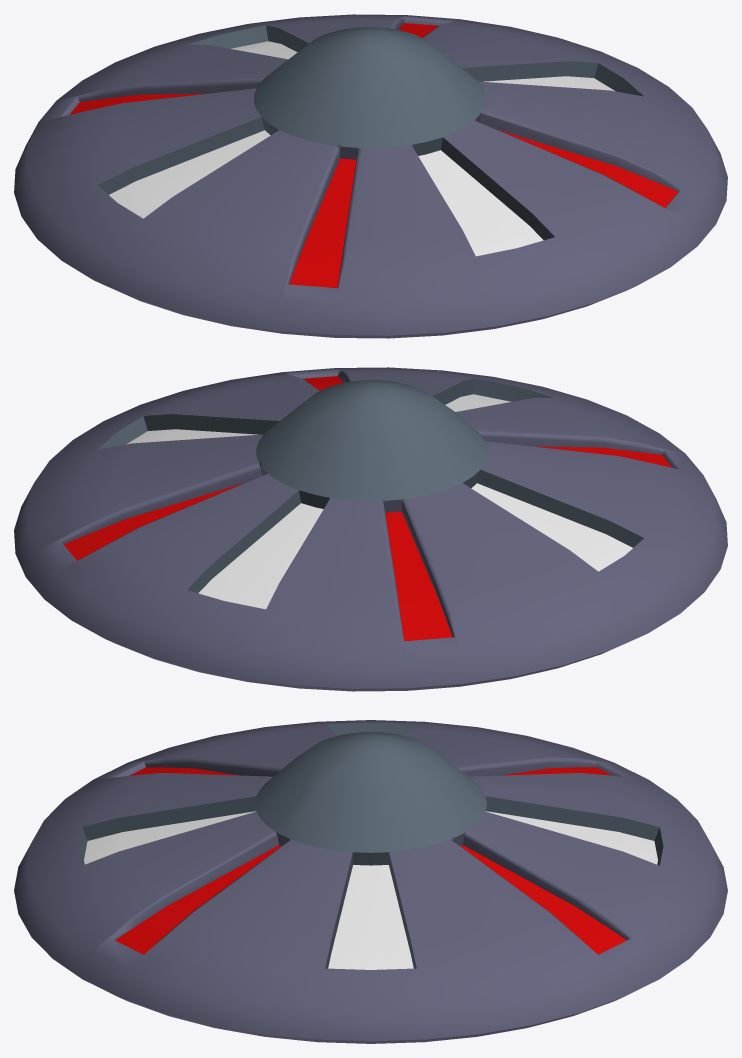
The model's file is unie jack ufo 2 1.fbx.
The picture shows the model from 3 angles, top to bottom: view 1: azimuth 30°, elevation 25°; view 2: azimuth 150°, elevation 25°; view 3: azimuth 270°, elevation 25°; orthographic projection.
Visible parts, largest first — view 1: ufo_4; view 2: ufo_4; view 3: ufo_4.
Part boxes in pixels (left/top/right/bottom): ufo_4: left=14, top=14, right=727, bottom=338; ufo_4: left=14, top=367, right=727, bottom=691; ufo_4: left=14, top=720, right=727, bottom=1043.
Size of the model in its own units: 5.91 by 1.76 by 5.91.
